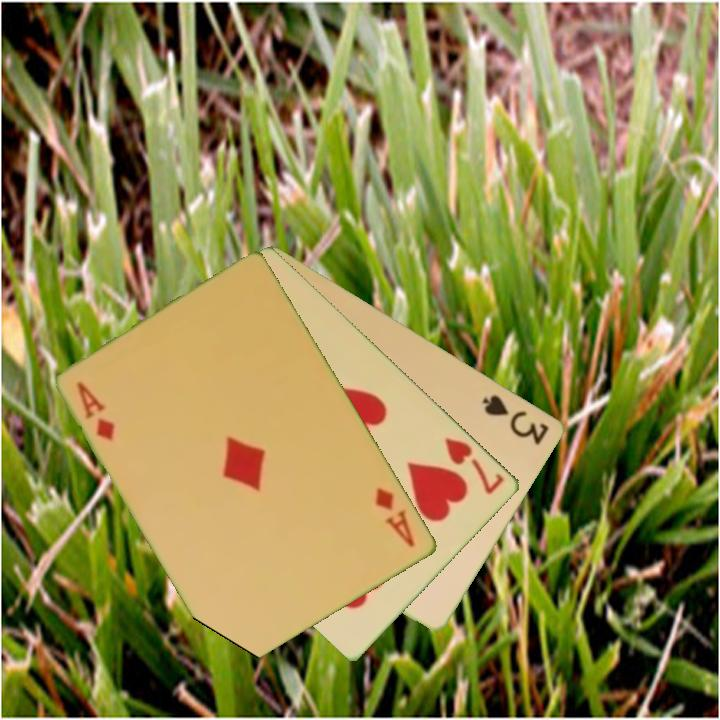3s: (479, 390, 553, 448)
7h: (442, 434, 508, 497)
Ad: (372, 484, 418, 551), (73, 378, 119, 445)
